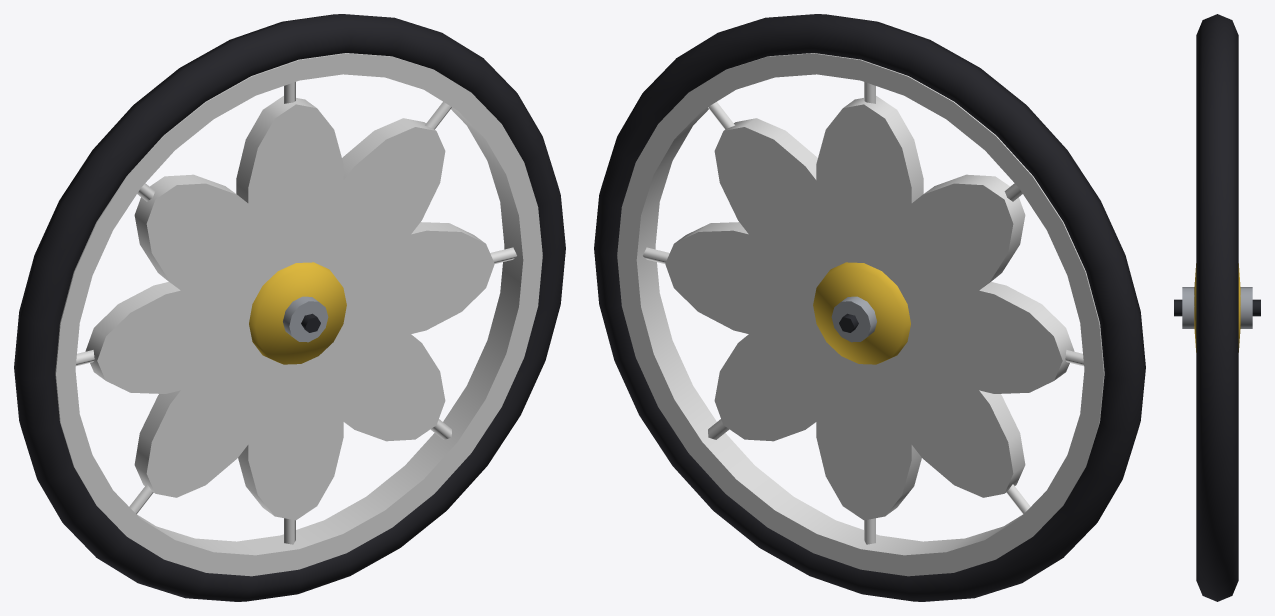
File: flower.glb
3 views of the same model, side by side, from view 1: azimuth 30°, elevation 25°; view 2: azimuth 150°, elevation 25°; view 3: azimuth 270°, elevation 25° (orthographic). The views are drawn at different scales.
Parts seen in each view (by area): view 1: Wheel; view 2: Wheel; view 3: Wheel.
Part boxes in pixels (box(x1,y1,x2,y2)): Wheel: box(14, 14, 565, 601); Wheel: box(594, 14, 1145, 601); Wheel: box(1174, 14, 1260, 601).
Bounding box in the file's own units: 0.84 × 0.84 × 0.124.
